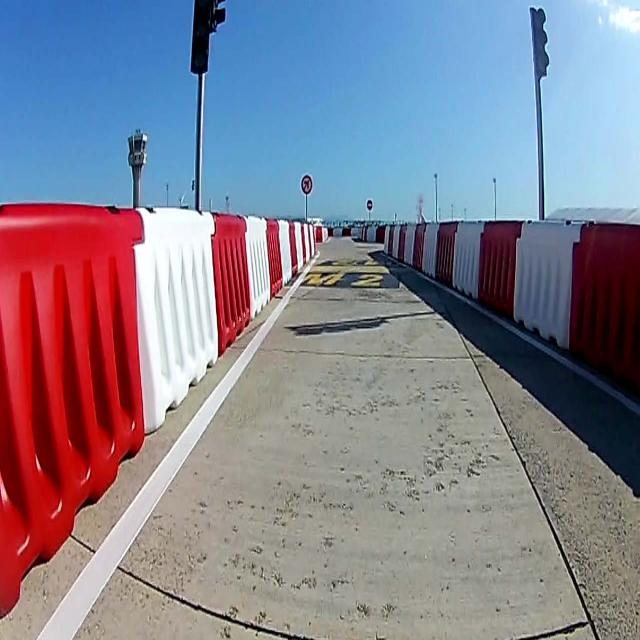girisyok: (366, 199, 372, 211)
soladonulmez: (302, 175, 312, 194)
